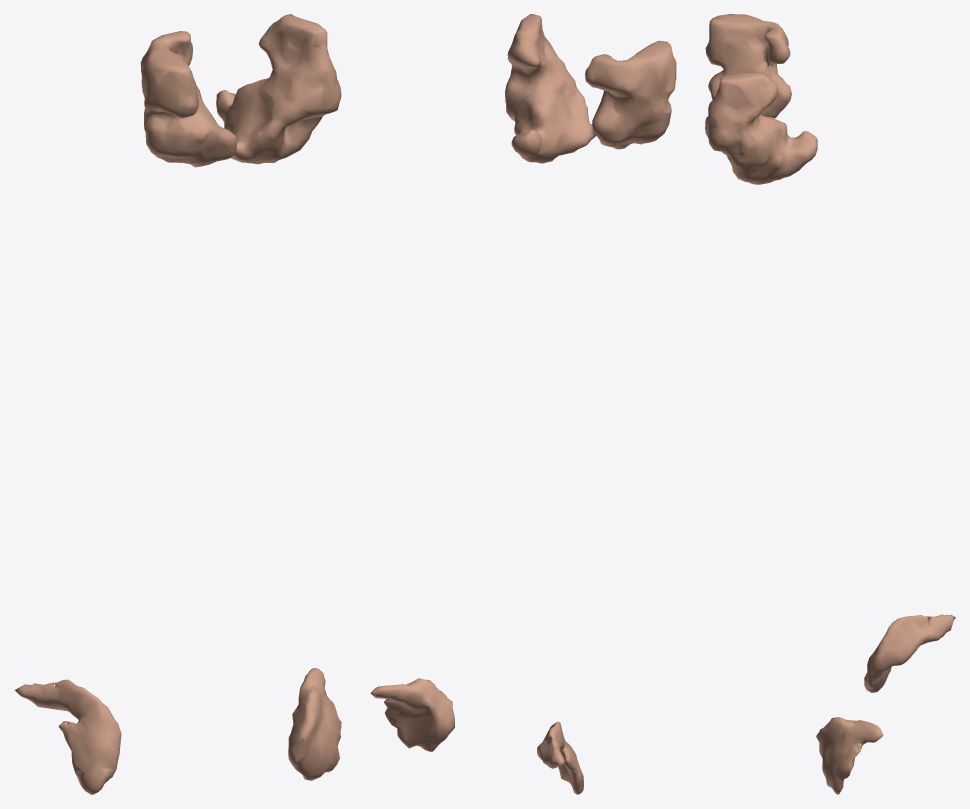
File: tsd_s0327_older_adult_male.endocrine.LOD1.glb
The picture shows the model from 3 angles, left to right: view 1: azimuth 30°, elevation 25°; view 2: azimuth 150°, elevation 25°; view 3: azimuth 270°, elevation 25°; orthographic projection. The views are drawn at different scales.
Parts seen in each view (by area): view 1: TSD_S0327.OLDER_ADULT.MALE.ENDOCRINE.THYROID_GLAND, TSD_S0327.OLDER_ADULT.MALE.ENDOCRINE.ADRENAL_GLAND.R, TSD_S0327.OLDER_ADULT.MALE.ENDOCRINE.ADRENAL_GLAND.L; view 2: TSD_S0327.OLDER_ADULT.MALE.ENDOCRINE.THYROID_GLAND, TSD_S0327.OLDER_ADULT.MALE.ENDOCRINE.ADRENAL_GLAND.L, TSD_S0327.OLDER_ADULT.MALE.ENDOCRINE.ADRENAL_GLAND.R; view 3: TSD_S0327.OLDER_ADULT.MALE.ENDOCRINE.THYROID_GLAND, TSD_S0327.OLDER_ADULT.MALE.ENDOCRINE.ADRENAL_GLAND.R, TSD_S0327.OLDER_ADULT.MALE.ENDOCRINE.ADRENAL_GLAND.L.
Boxes of the visible parts, x1,y1,x2,y2 form: TSD_S0327.OLDER_ADULT.MALE.ENDOCRINE.THYROID_GLAND: [140, 14, 341, 167]; TSD_S0327.OLDER_ADULT.MALE.ENDOCRINE.ADRENAL_GLAND.R: [14, 679, 121, 794]; TSD_S0327.OLDER_ADULT.MALE.ENDOCRINE.ADRENAL_GLAND.L: [288, 668, 341, 780]; TSD_S0327.OLDER_ADULT.MALE.ENDOCRINE.THYROID_GLAND: [505, 14, 676, 163]; TSD_S0327.OLDER_ADULT.MALE.ENDOCRINE.ADRENAL_GLAND.L: [370, 678, 454, 751]; TSD_S0327.OLDER_ADULT.MALE.ENDOCRINE.ADRENAL_GLAND.R: [537, 721, 583, 794]; TSD_S0327.OLDER_ADULT.MALE.ENDOCRINE.THYROID_GLAND: [705, 14, 817, 184]; TSD_S0327.OLDER_ADULT.MALE.ENDOCRINE.ADRENAL_GLAND.R: [864, 614, 955, 692]; TSD_S0327.OLDER_ADULT.MALE.ENDOCRINE.ADRENAL_GLAND.L: [816, 717, 883, 794].
Bounding box in the file's own units: 0.1022 × 0.3003 × 0.0996.
